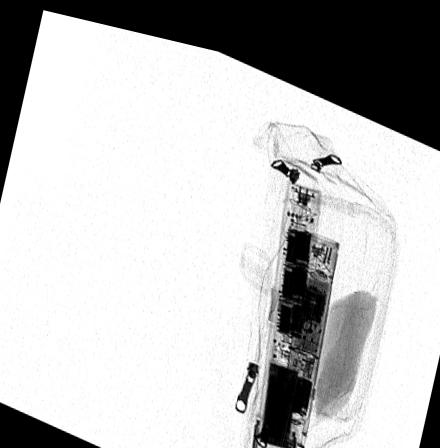Baton: (249, 164, 324, 448), (272, 216, 341, 440)
